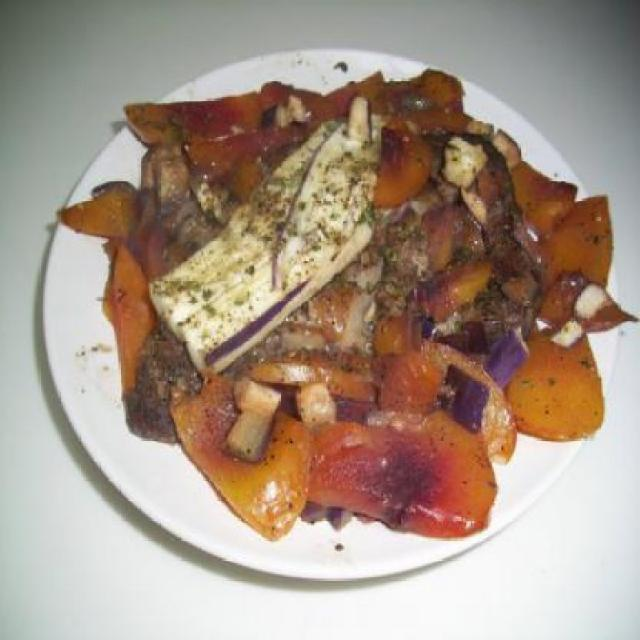Steak: (69, 58, 614, 528)
